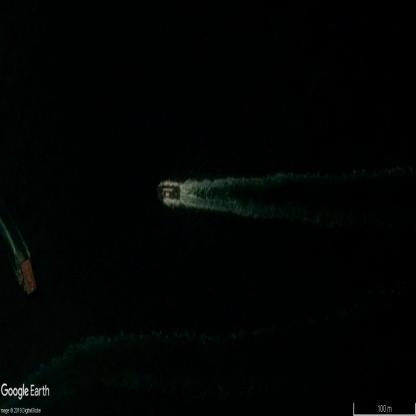ship: (21, 258, 37, 294), (158, 185, 181, 203), (12, 255, 23, 284)
